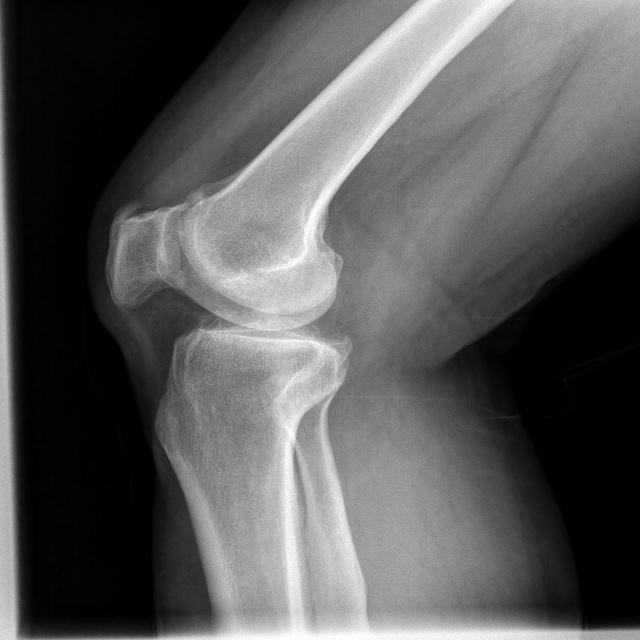Knee: (107, 195, 351, 427)
